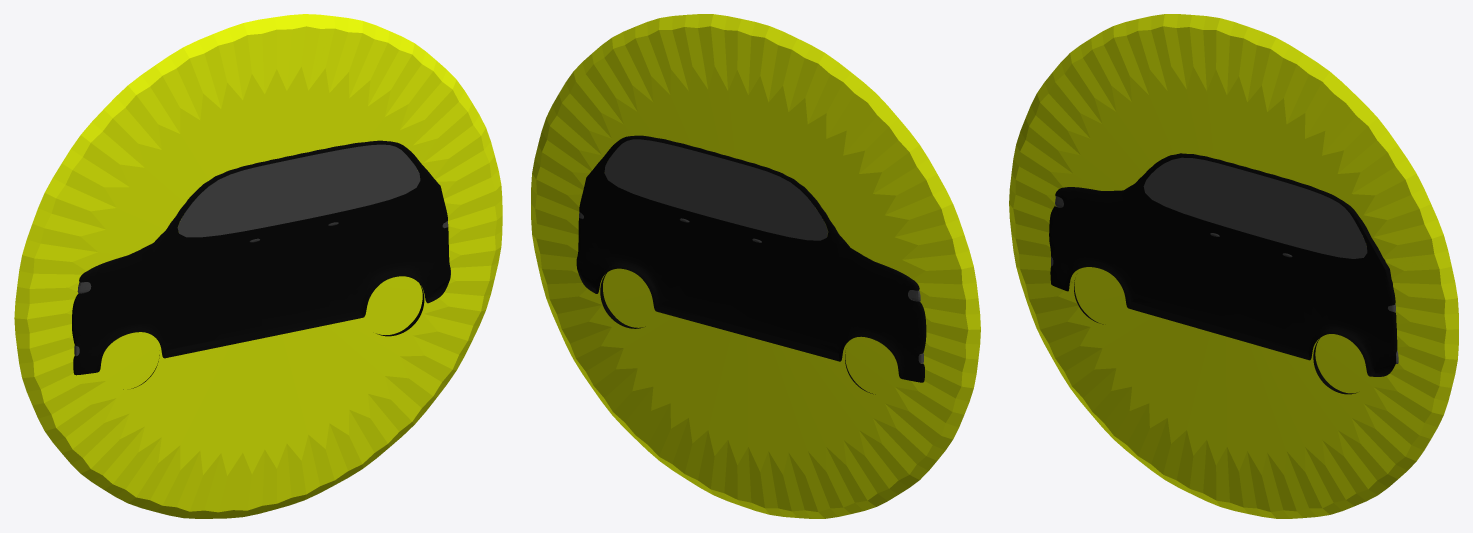
File: Black_car_coin.glb
3 views of the same model, side by side, from view 1: azimuth 30°, elevation 25°; view 2: azimuth 150°, elevation 25°; view 3: azimuth 330°, elevation 25° (orthographic).
Parts seen in each view (by area): view 1: Coin, Car_corpus, Glasses; view 2: Coin.001, Car_corpus.001, Glasses.001; view 3: Coin, Car_corpus, Glasses.
Part boxes in pixels (x1,y1,x2,y2): Coin: (14, 14, 502, 518); Car_corpus: (72, 140, 450, 375); Glasses: (177, 144, 420, 237); Coin.001: (531, 14, 980, 518); Car_corpus.001: (576, 135, 926, 382); Glasses.001: (604, 139, 827, 240); Coin: (1009, 14, 1458, 518); Car_corpus: (1049, 153, 1397, 376); Glasses: (1143, 157, 1367, 258).
Size of the model in its own units: 2.36 by 2.37 by 0.2889.
